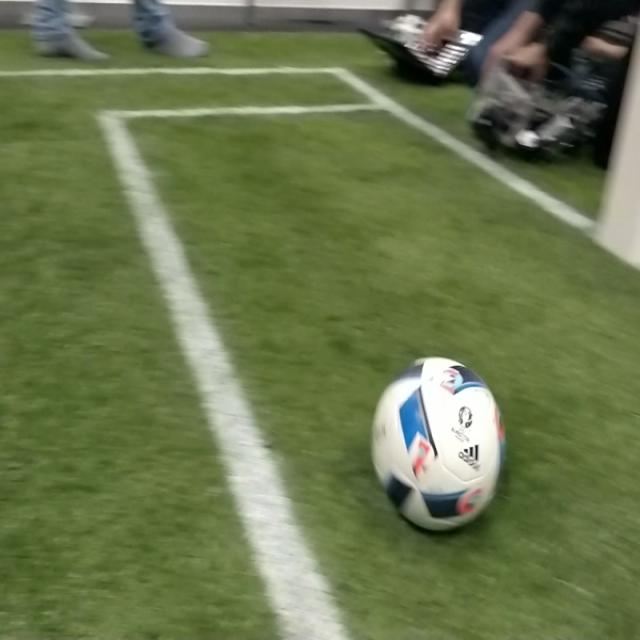ball: (370, 356, 508, 538)
goalpost: (608, 128, 639, 254)
